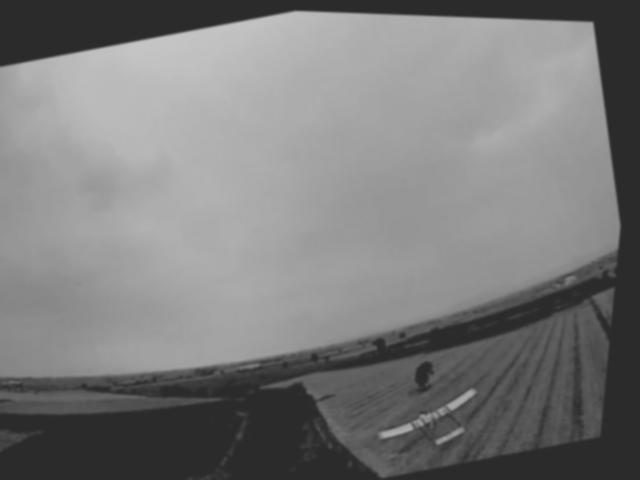hedef: (369, 367, 508, 478)
